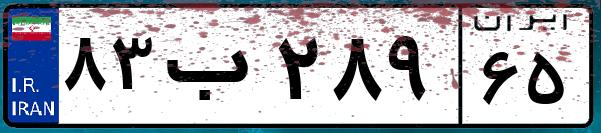2: (270, 28, 330, 110)
3: (110, 28, 158, 98)
5: (525, 38, 570, 115)
6: (475, 38, 525, 113)
8: (330, 28, 385, 110), (57, 26, 110, 100)
9: (385, 28, 445, 110)
ب: (158, 20, 270, 120)
